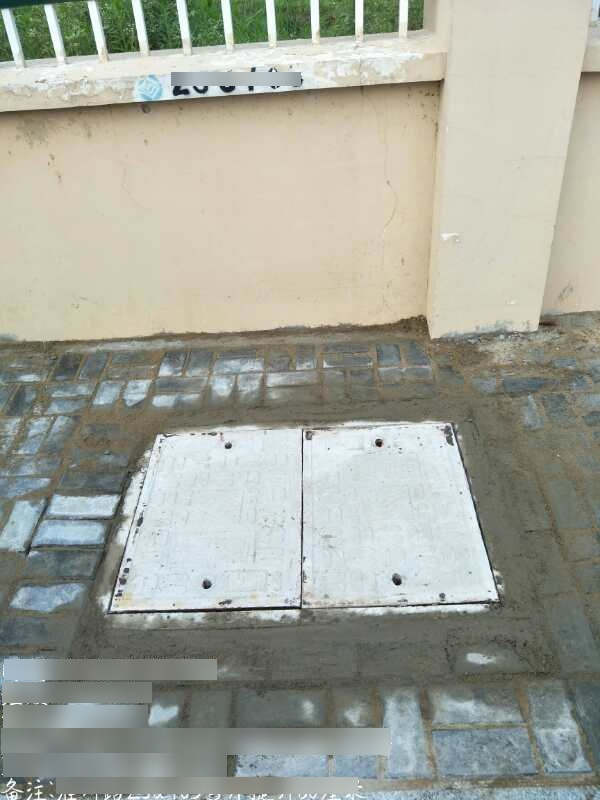good: (94, 420, 504, 621)
